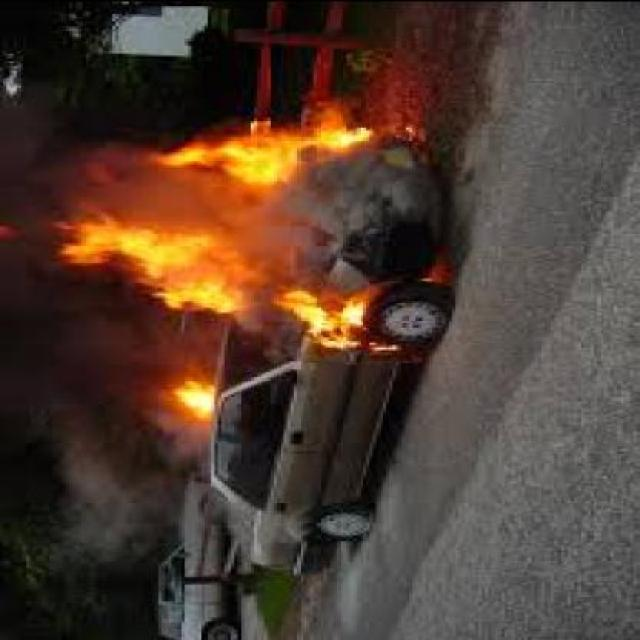Fire: (71, 212, 258, 314), (160, 120, 362, 174), (276, 288, 378, 355), (174, 366, 212, 424)
Smoke: (3, 314, 164, 568), (0, 101, 165, 203)
